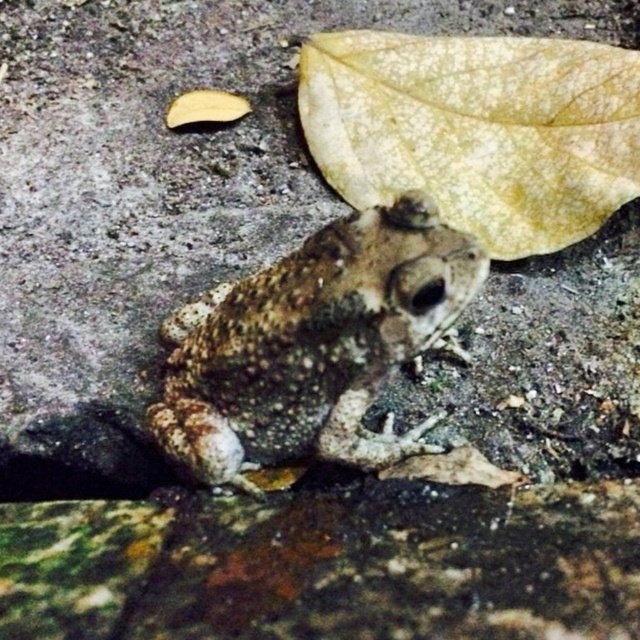Frog: (145, 185, 492, 504)
